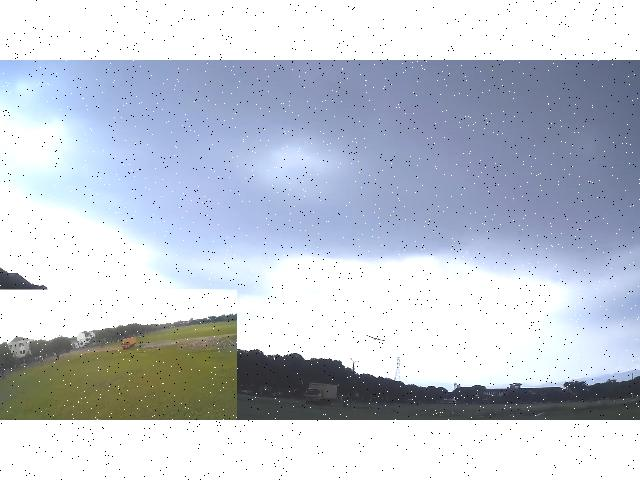Anti-Drone: (350, 319, 404, 352)
